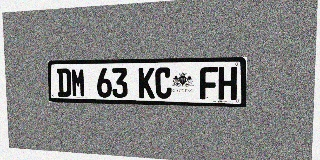3: (112, 68, 127, 98)
6: (97, 68, 112, 98)
C: (155, 67, 172, 99)
D: (57, 68, 71, 97)
F: (200, 67, 218, 99)
H: (218, 67, 237, 100)
K: (138, 67, 155, 98)
M: (71, 68, 86, 97)
